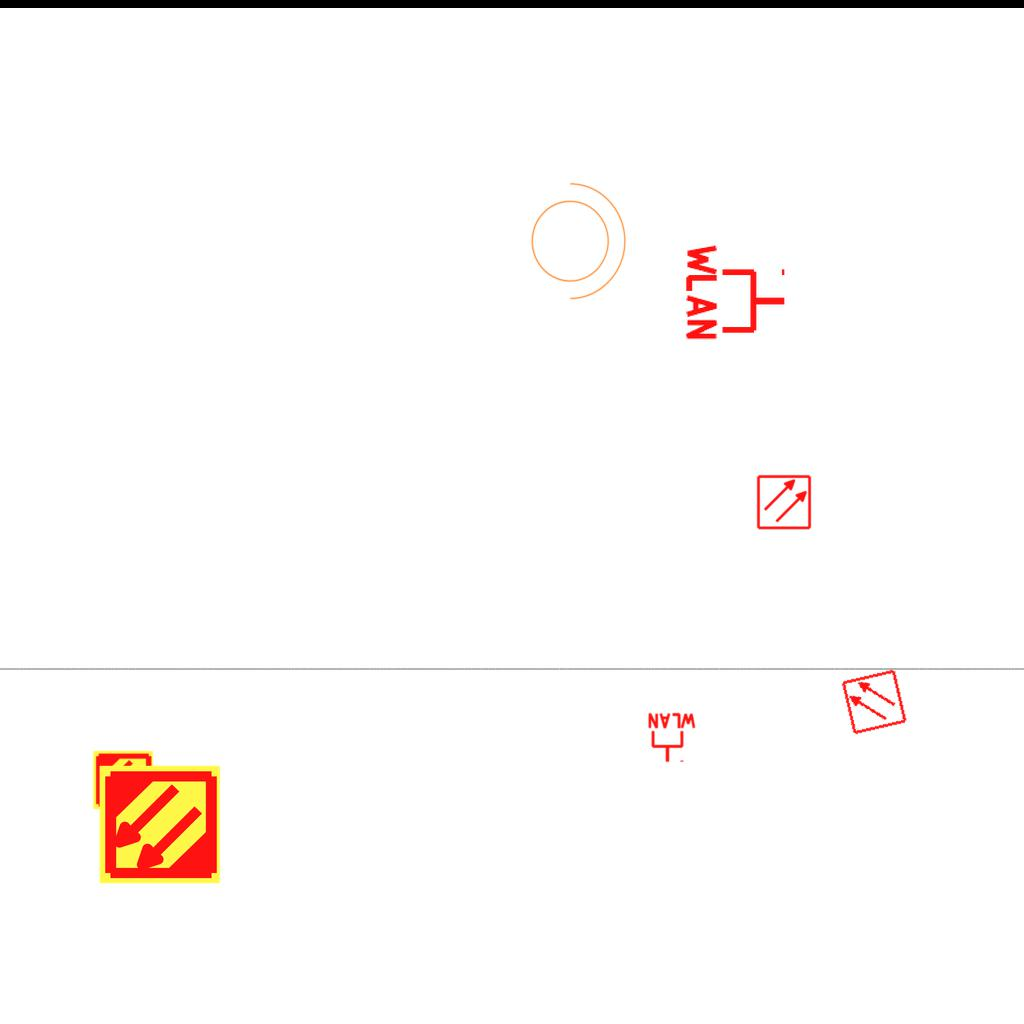ASR_Ansaugrauchmelder: (97, 762, 222, 887), (92, 749, 154, 811)
RMO_Rauchmelder_optischer: (840, 668, 908, 736), (756, 474, 812, 530)
Scheinwerfer_fuer_Alarmbeleuchtung: (519, 172, 631, 304)
WLAN: (684, 240, 789, 344), (646, 712, 698, 764)
